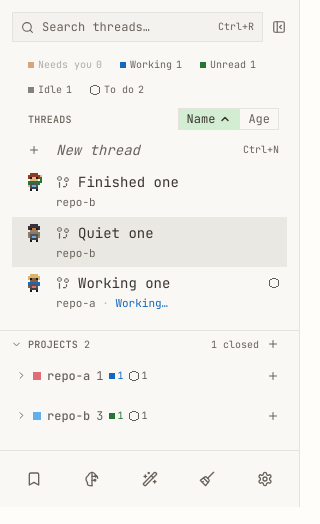
it: Sidebar follow-up flags › lists flagged threads under the To do chip whatever their state, closed ones too
Expected: the text "Closed one" is not shown
Click the button titled "To do: 2" at (117, 90), box [83,79,151,100]
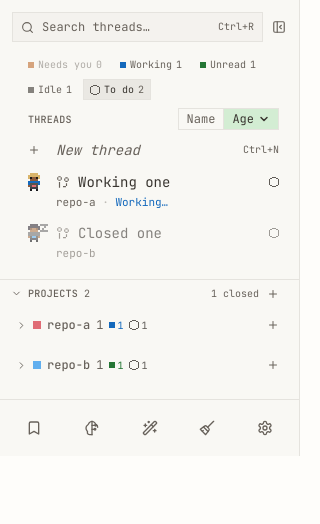
Expected: the text "Closed one" is shown, [78,224,162,242]
Expected: the button "Quiet one" is gone
Expected: the button "Finished one" is gone
